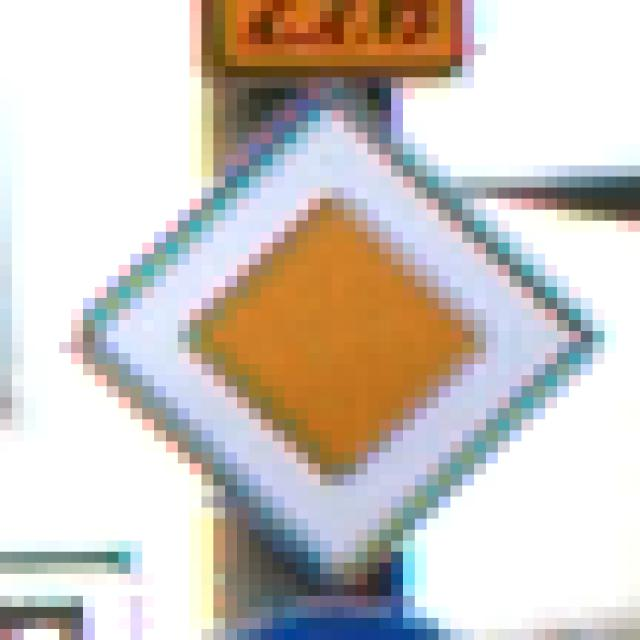Main Road: (60, 67, 582, 586)
